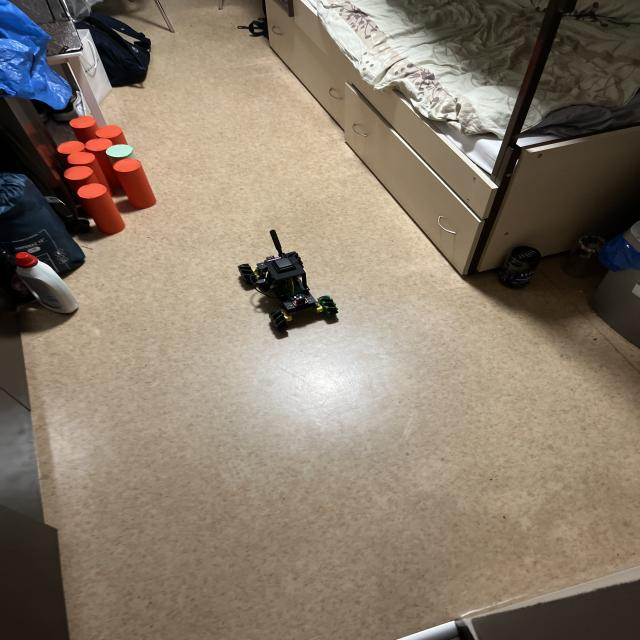robot: (238, 230, 338, 330)
